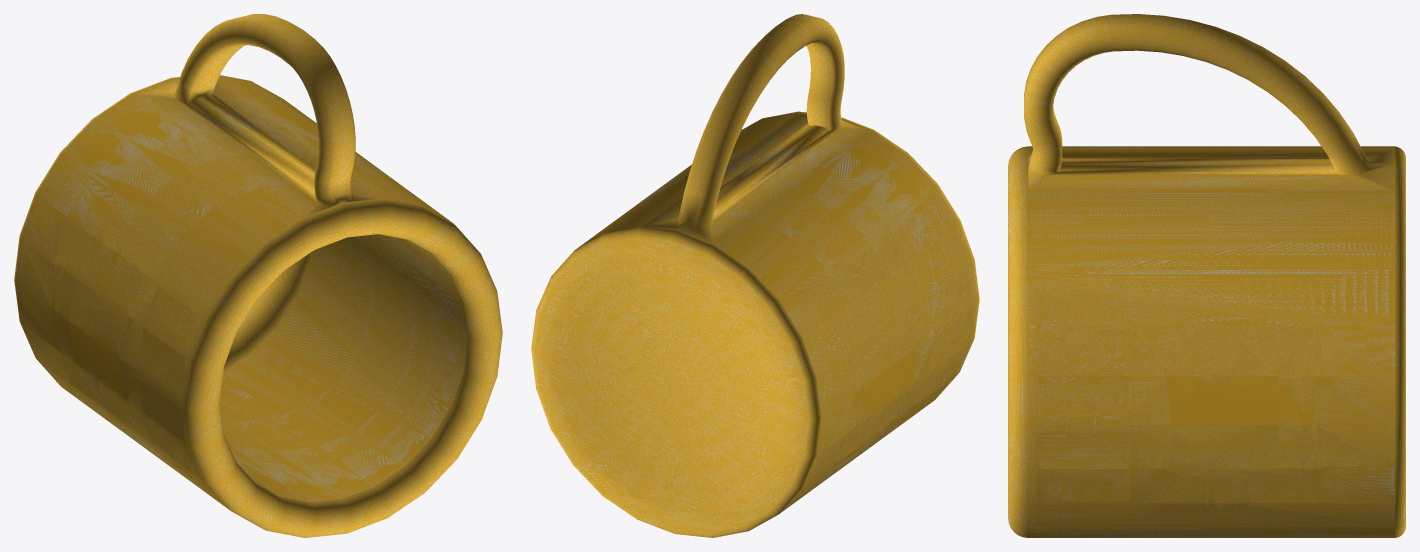
The model's file is model_align.obj.
3 views of the same model, side by side, from view 1: azimuth 30°, elevation 25°; view 2: azimuth 150°, elevation 25°; view 3: azimuth 270°, elevation 25° (orthographic). The views are drawn at different scales.
Parts seen in each view (by area): view 1: mesh1_mesh1-geometry; view 2: mesh1_mesh1-geometry; view 3: mesh1_mesh1-geometry.
Boxes of the visible parts, <box> form: mesh1_mesh1-geometry: <box>14,14,502,537</box>; mesh1_mesh1-geometry: <box>531,14,979,537</box>; mesh1_mesh1-geometry: <box>1008,14,1405,537</box>.
Size of the model in its own units: 0.0969 by 0.1366 by 0.0981.
